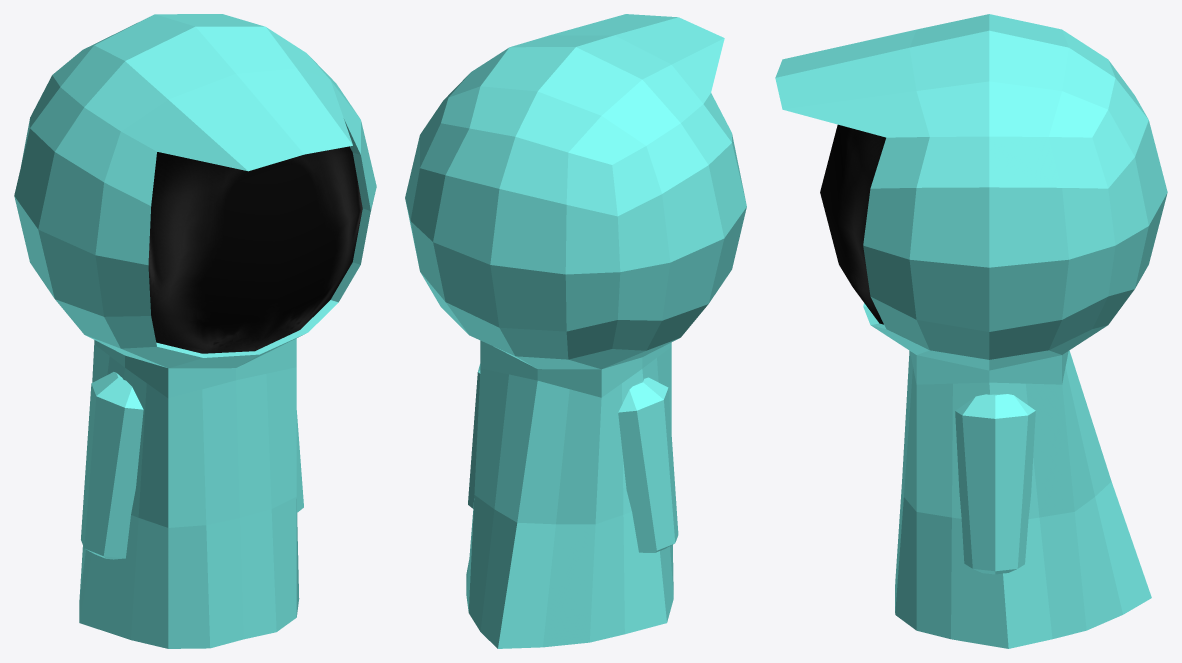
The model's file is Player.fbx.
3 views of the same model, side by side, from view 1: azimuth 30°, elevation 25°; view 2: azimuth 150°, elevation 25°; view 3: azimuth 270°, elevation 25° (orthographic). The views are drawn at different scales.
Parts seen in each view (by area): view 1: Cube; view 2: Cube; view 3: Cube.
Boxes of the visible parts, x1,y1,x2,y2 form: Cube: (14,14,376,648); Cube: (405,14,746,648); Cube: (775,14,1167,648).
Size of the model in its own units: 263 by 290 by 464.
Materials: 1 (1 with a texture image).
